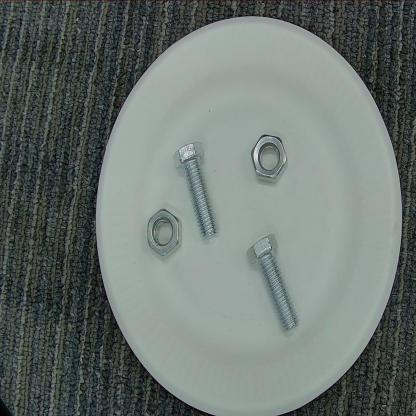FOD: (244, 230, 301, 338), (172, 140, 223, 247), (142, 205, 185, 263), (248, 130, 291, 187)
